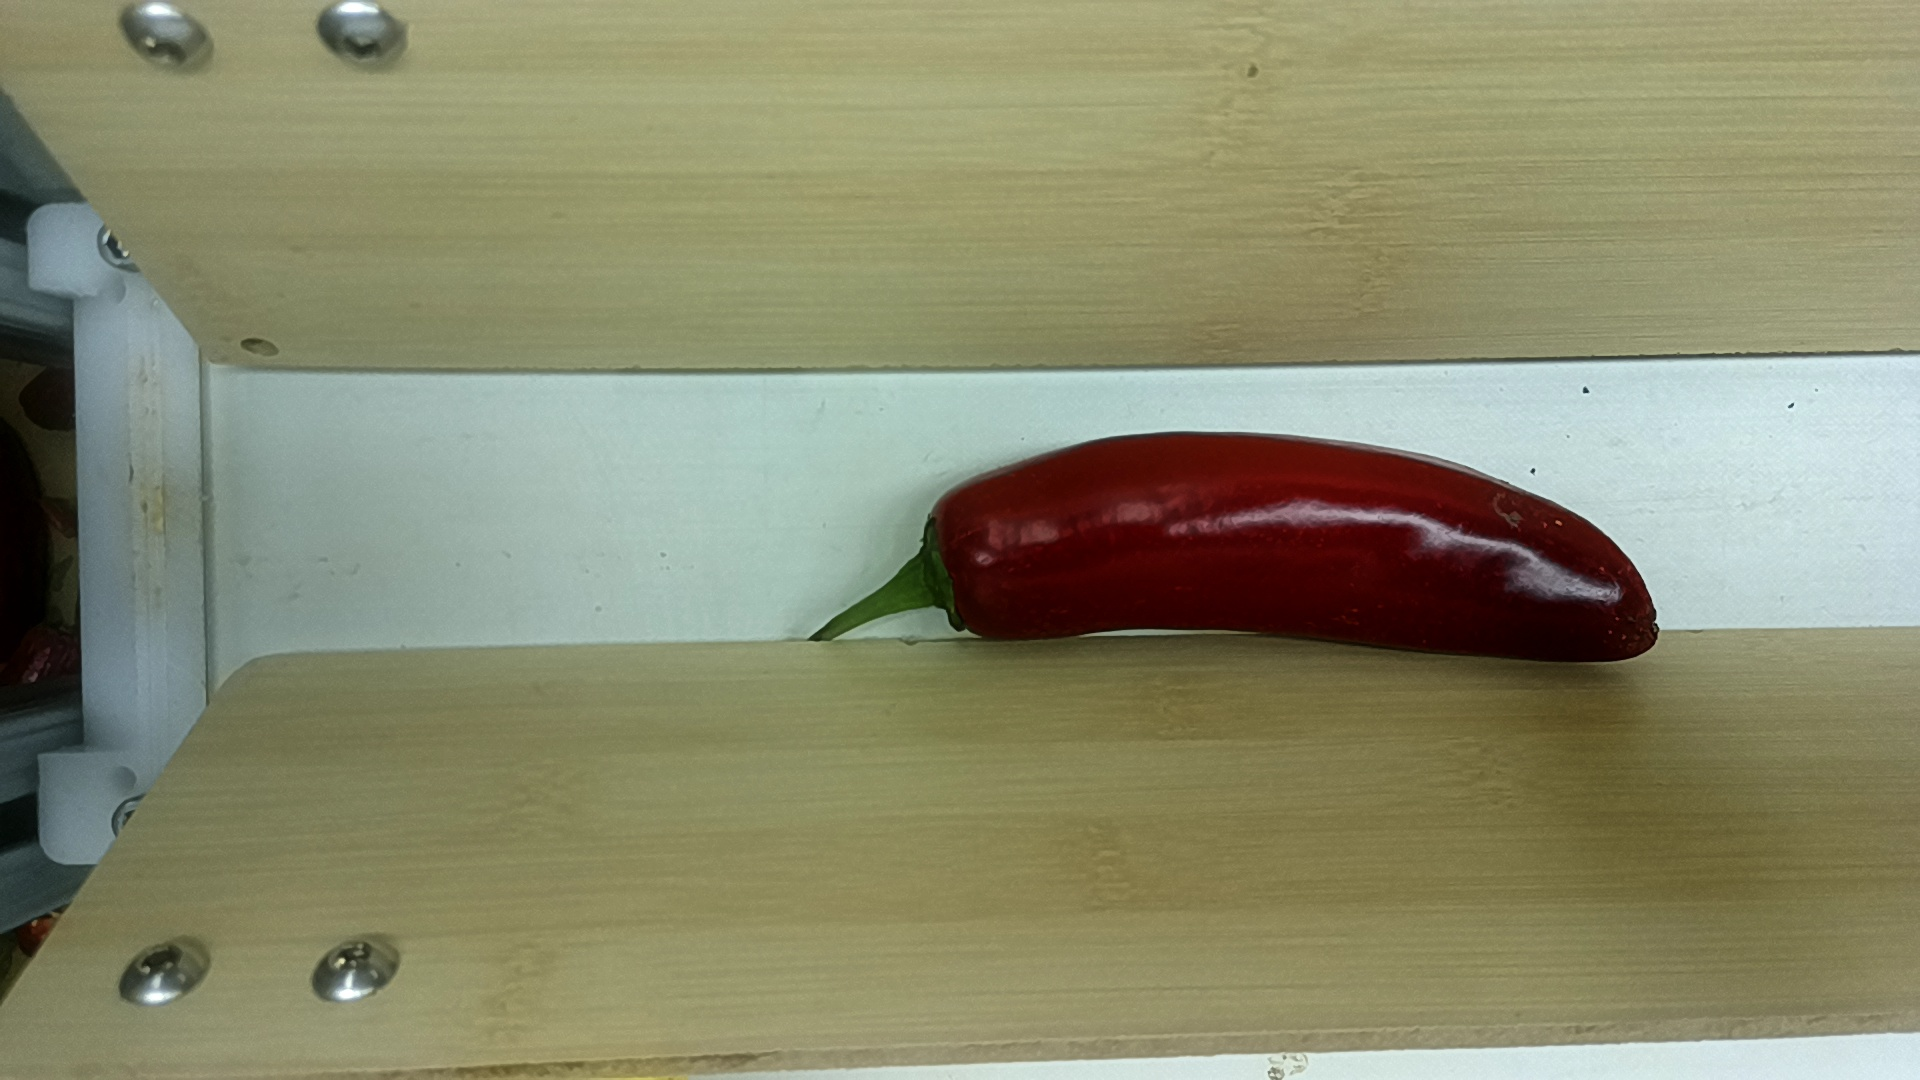Cut Point: (910, 480, 1005, 649)
